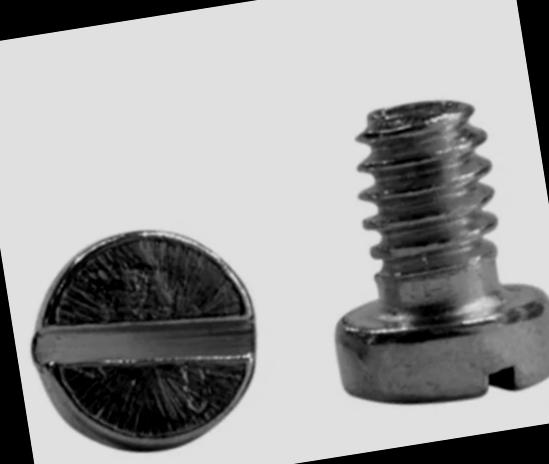screw: (17, 214, 269, 464)
